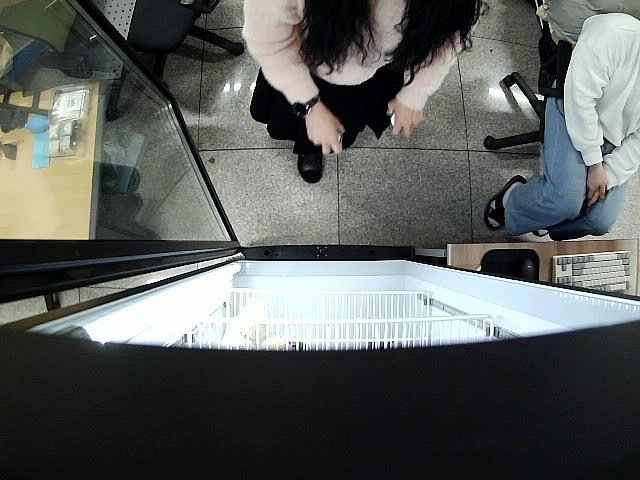00_hand: (307, 109, 346, 156), (387, 101, 424, 140), (586, 169, 607, 203)
